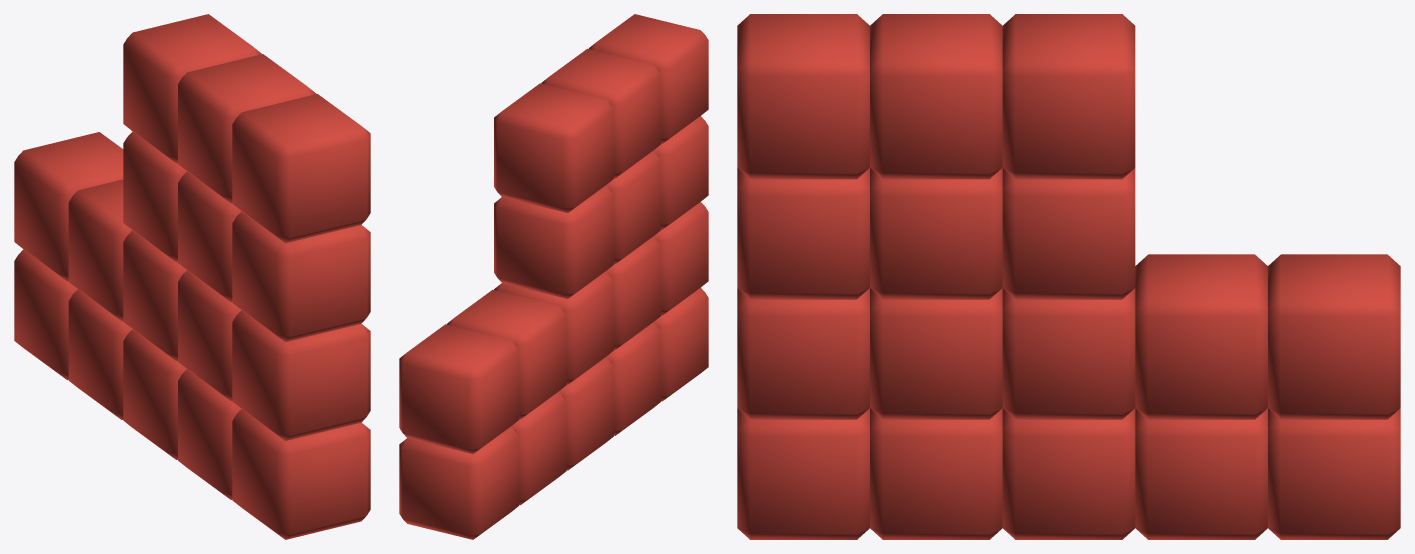
File: obstacle-007.fbx
3 views of the same model, side by side, from view 1: azimuth 30°, elevation 25°; view 2: azimuth 150°, elevation 25°; view 3: azimuth 270°, elevation 25° (orthographic). The views are drawn at different scales.
Parts seen in each view (by area): view 1: obstacle-007; view 2: obstacle-007; view 3: obstacle-007.
Part boxes in pixels (left/top/right/bottom): obstacle-007: left=14, top=14, right=370, bottom=539; obstacle-007: left=399, top=14, right=708, bottom=539; obstacle-007: left=737, top=14, right=1400, bottom=539.
Size of the model in its own units: 200 by 800 by 1000.
